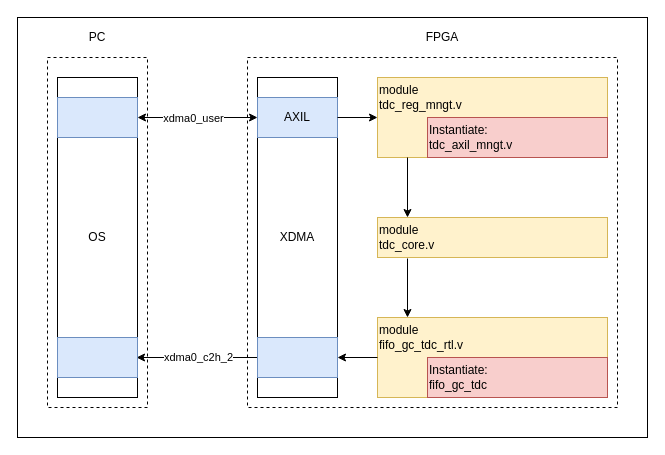
The diagram is 665 pixels wide and 455 high, and some of its shapes have lost their labels. The shapes that lost their labels are listed below. From the top down, each one's centre as x and y in pixels, then its label:
At (x=97, y=117): "command, registers,...".
At (x=97, y=357): "read time data".
At (x=297, y=357): "AXIS".
